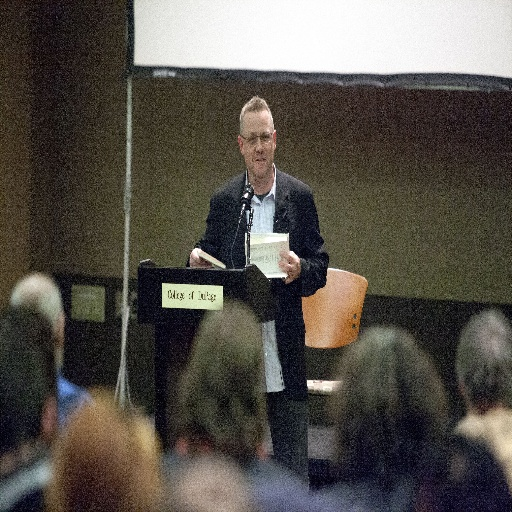hand: (271, 237, 311, 289), (188, 246, 213, 269)
